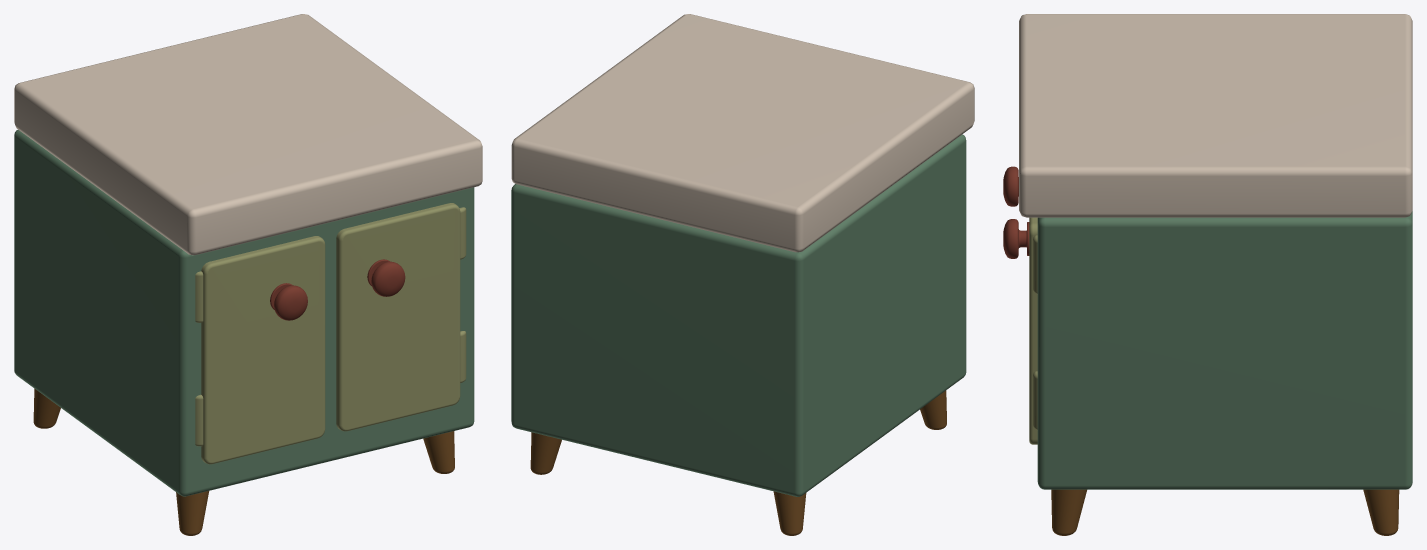
The model's file is SM_Kitchen_Cabinet_A.fbx.
3 views of the same model, side by side, from view 1: azimuth 30°, elevation 25°; view 2: azimuth 150°, elevation 25°; view 3: azimuth 270°, elevation 25° (orthographic). The views are drawn at different scales.
Parts seen in each view (by area): view 1: Cube.022, Cube.016, Cube.021, Cylinder.007, Cylinder.010, SM_Shelf_Dresser_A_Drawer_01.002, SM_Shelf_Dresser_A_Drawer_01.001; view 2: Cube.016, Cube.022, Cylinder.007; view 3: Cube.016, Cube.022, Cylinder.007, Cube.021, SM_Shelf_Dresser_A_Drawer_01.001, SM_Shelf_Dresser_A_Drawer_01.002, Cylinder.010.
Part boxes in pixels (x1,y1,x2,y2): Cube.022: [14, 14, 482, 255]; Cube.016: [14, 130, 474, 496]; Cube.021: [201, 203, 460, 464]; Cylinder.007: [33, 388, 454, 535]; Cylinder.010: [195, 207, 466, 446]; SM_Shelf_Dresser_A_Drawer_01.002: [270, 283, 307, 320]; SM_Shelf_Dresser_A_Drawer_01.001: [367, 259, 405, 296]; Cube.016: [511, 134, 966, 496]; Cube.022: [511, 14, 974, 252]; Cylinder.007: [530, 390, 946, 535]; Cube.016: [1037, 211, 1412, 489]; Cube.022: [1019, 14, 1412, 217]; Cylinder.007: [1051, 489, 1399, 535]; Cube.021: [1029, 217, 1037, 444]; SM_Shelf_Dresser_A_Drawer_01.001: [1003, 219, 1029, 258]; SM_Shelf_Dresser_A_Drawer_01.002: [1003, 166, 1018, 206]; Cylinder.010: [1033, 235, 1037, 429].
Size of the model in its own units: 100 by 110 by 109.
